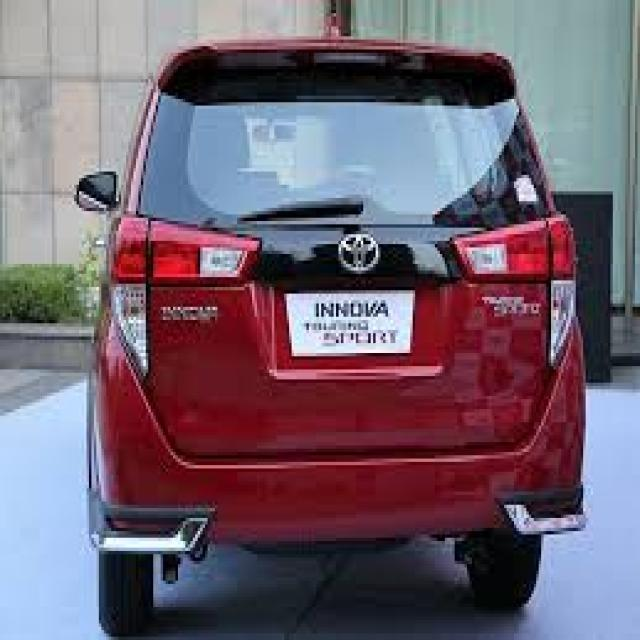light_vehicle: (75, 36, 586, 638)
